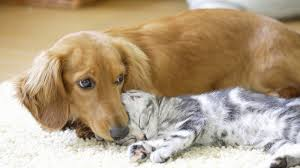cat: (115, 89, 300, 167)
dog: (17, 9, 296, 134)
